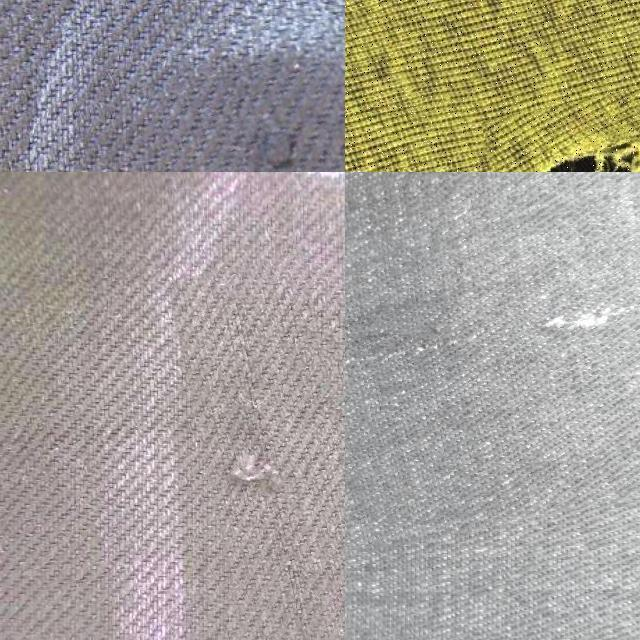Thread_other: (345, 172, 640, 582), (183, 258, 345, 640), (161, 58, 345, 172)
seam: (486, 91, 640, 172)
